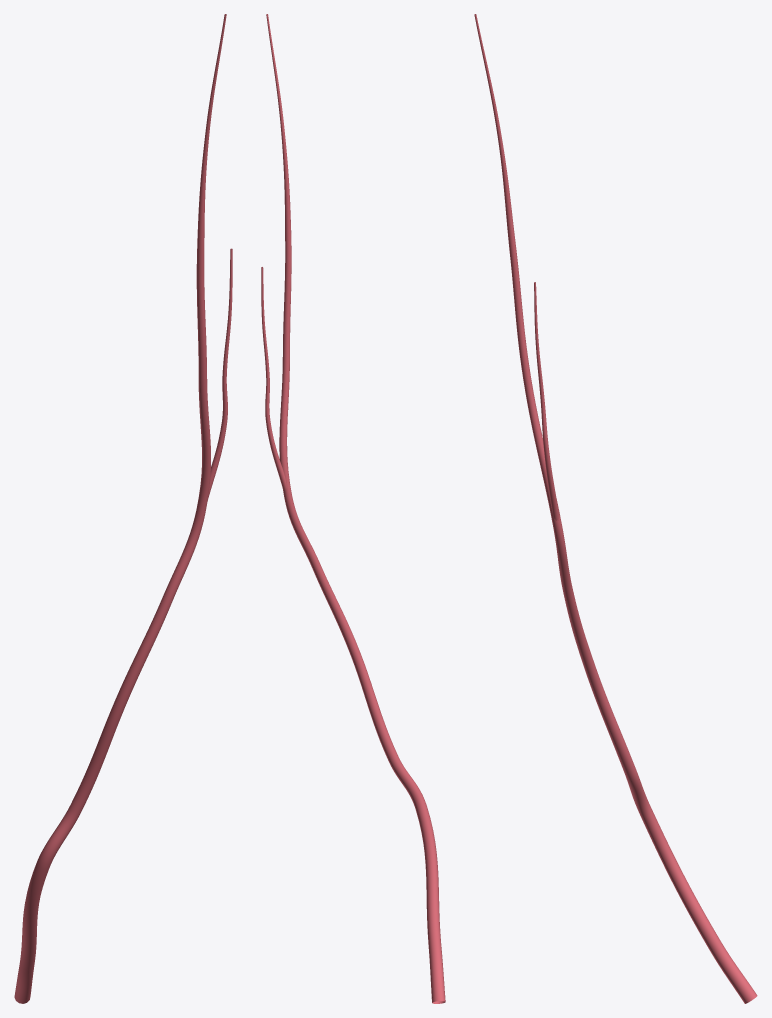
The picture shows the model from 3 angles, left to right: view 1: azimuth 30°, elevation 25°; view 2: azimuth 210°, elevation 25°; view 3: azimuth 270°, elevation 25°; orthographic projection. The views are drawn at different scales.
Visible parts, largest first — view 1: ZA_7230a63ba9f4172e; view 2: ZA_7230a63ba9f4172e; view 3: ZA_7230a63ba9f4172e.
Boxes of the visible parts, x1,y1,x2,y2 form: ZA_7230a63ba9f4172e: [14, 14, 232, 1003]; ZA_7230a63ba9f4172e: [261, 14, 445, 1003]; ZA_7230a63ba9f4172e: [474, 14, 757, 1003].
Size of the model in its own units: 0.0295 by 0.2204 by 0.0557.
